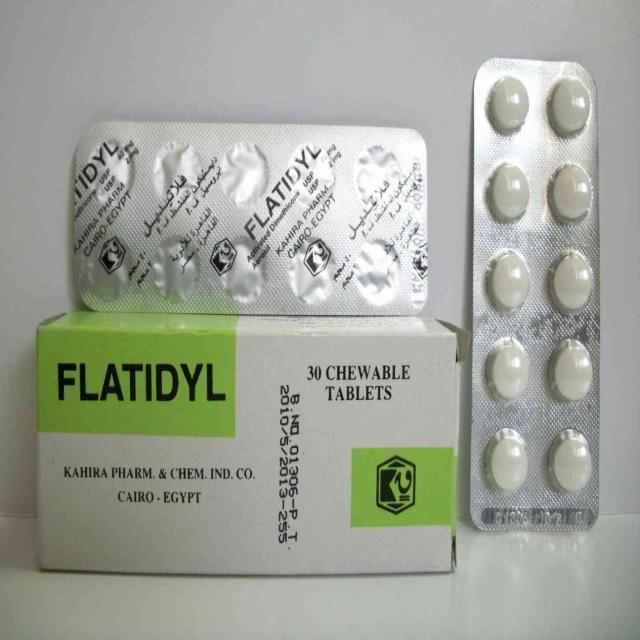drug-name: (54, 358, 230, 410)
